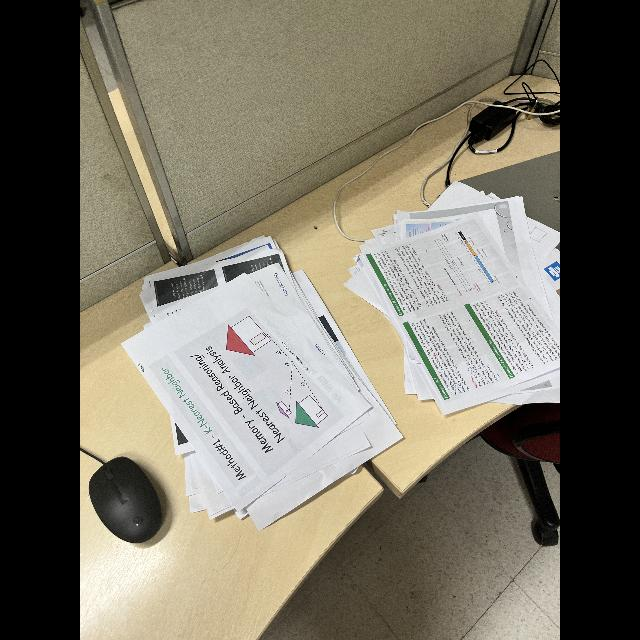reuseable_paper: (118, 235, 406, 535), (340, 180, 560, 432)
